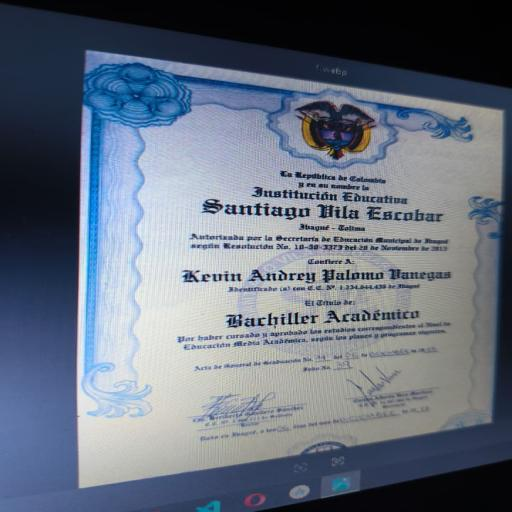bachillerato: (197, 303, 429, 335)
diploma: (73, 49, 510, 487)
escudo: (280, 96, 384, 165)
firma: (322, 364, 460, 416), (175, 383, 313, 433)
institucion: (183, 180, 460, 227)
nombre: (154, 261, 450, 289)
